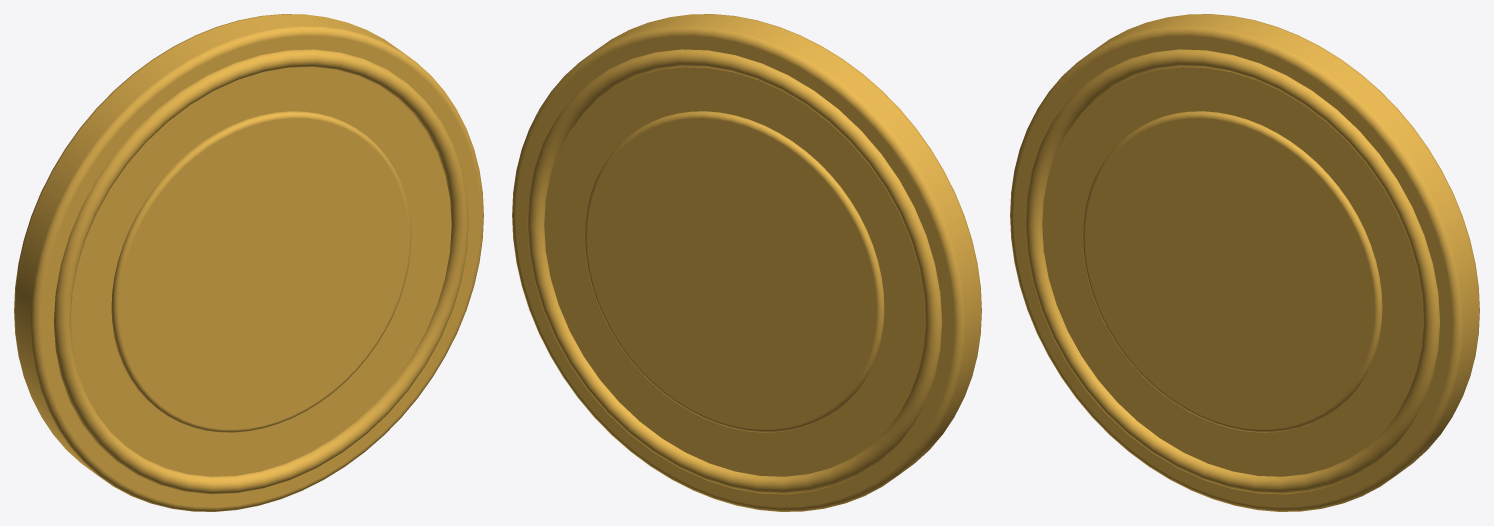
File: coin.glb
3 views of the same model, side by side, from view 1: azimuth 30°, elevation 25°; view 2: azimuth 150°, elevation 25°; view 3: azimuth 330°, elevation 25° (orthographic).
Parts seen in each view (by area): view 1: coin, relief, rim_f; view 2: coin, relief, rim_b; view 3: coin, relief, rim_f.
Boxes of the visible parts, bbox=[...] form: coin: bbox=[14, 14, 483, 511]; relief: bbox=[111, 111, 411, 432]; rim_f: bbox=[54, 49, 468, 494]; coin: bbox=[512, 14, 981, 511]; relief: bbox=[584, 111, 884, 432]; rim_b: bbox=[527, 49, 941, 494]; coin: bbox=[1010, 14, 1479, 511]; relief: bbox=[1082, 111, 1382, 432]; rim_f: bbox=[1025, 49, 1439, 494].
Bounding box in the file's own units: 1 × 1 × 0.125.
